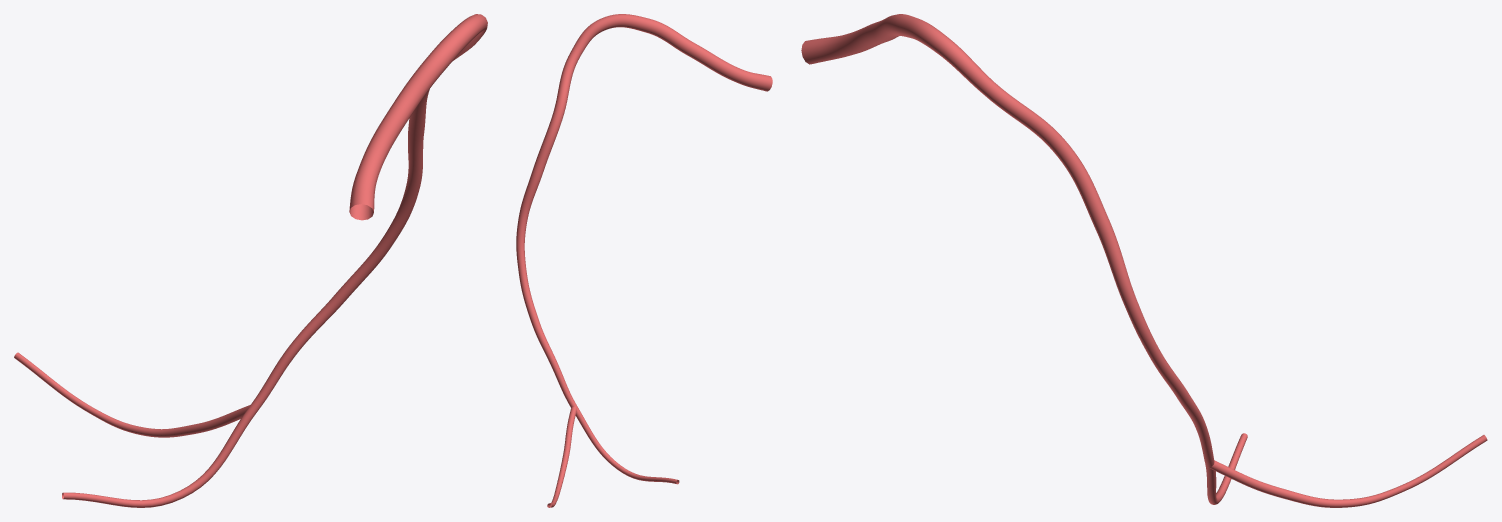
The model's file is Middle_temporal_branch.l_BezierCurve.217.glb.
3 views of the same model, side by side, from view 1: azimuth 30°, elevation 25°; view 2: azimuth 150°, elevation 25°; view 3: azimuth 270°, elevation 25° (orthographic). The views are drawn at different scales.
Parts seen in each view (by area): view 1: Middle_temporal_branch.l_BezierCurve.217; view 2: Middle_temporal_branch.l_BezierCurve.217; view 3: Middle_temporal_branch.l_BezierCurve.217.
Part boxes in pixels (left/top/right/bottom): Middle_temporal_branch.l_BezierCurve.217: left=14, top=14, right=487, bottom=507; Middle_temporal_branch.l_BezierCurve.217: left=516, top=14, right=772, bottom=507; Middle_temporal_branch.l_BezierCurve.217: left=801, top=14, right=1487, bottom=507.
Size of the model in its own units: 0.0251 by 0.0443 by 0.0498.
